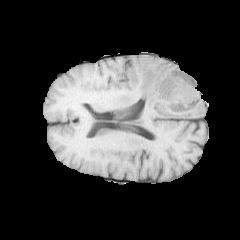glioma: (139, 63, 201, 112)
